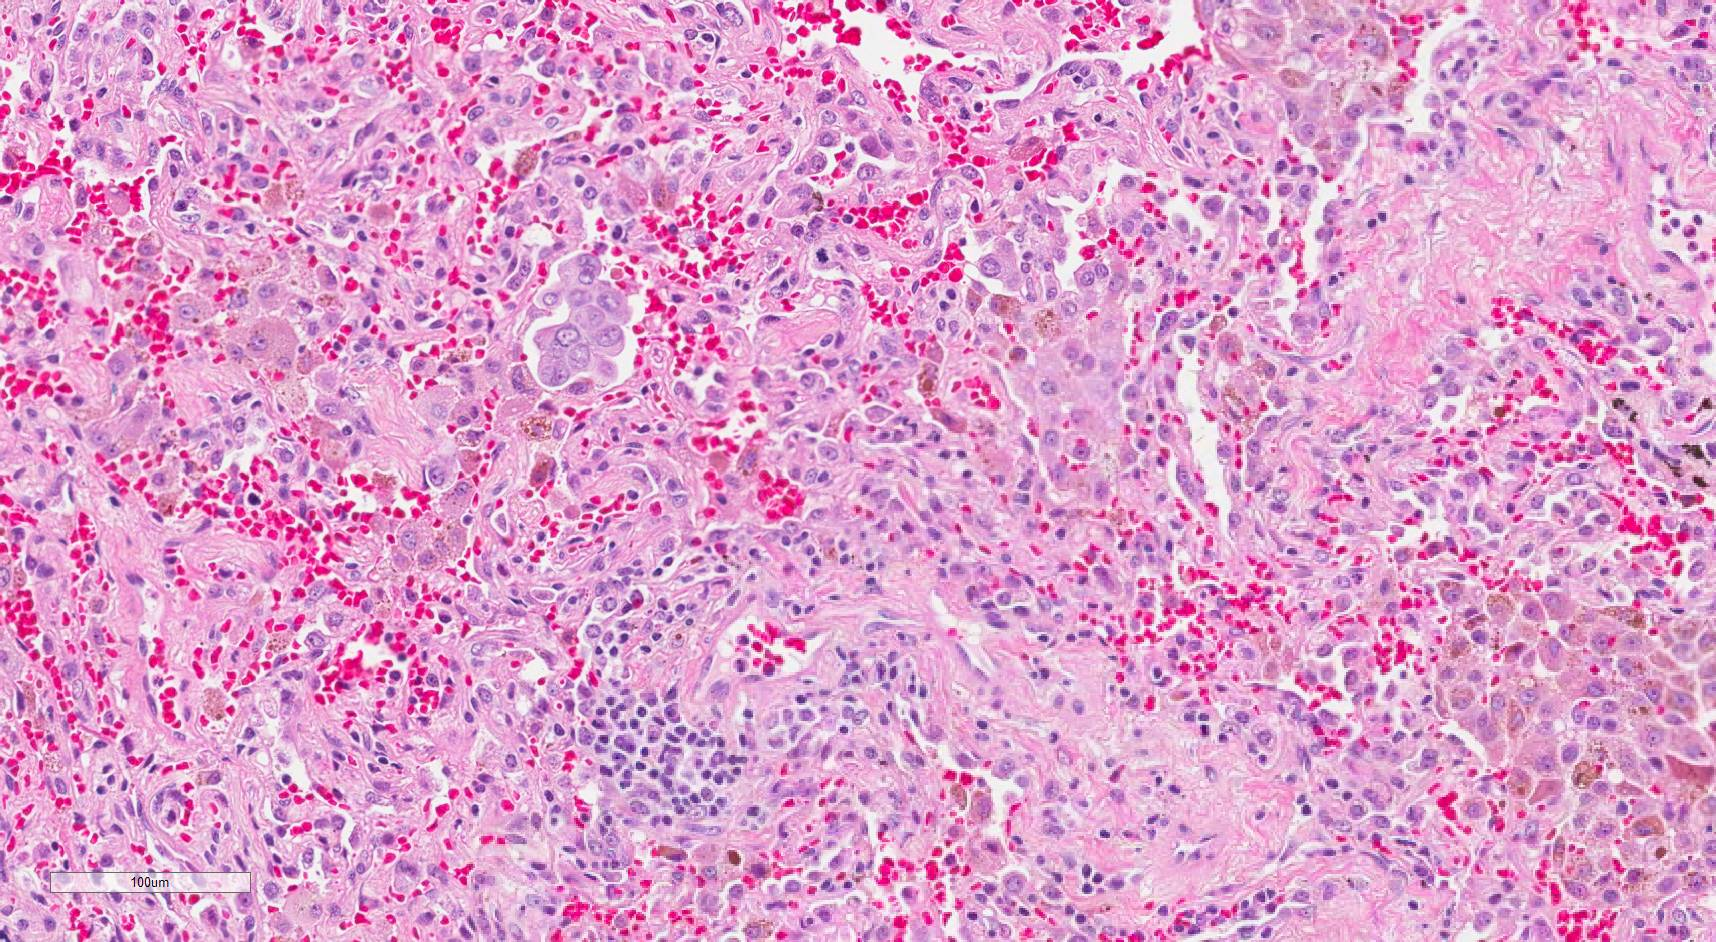stas: (531, 250, 632, 389)
